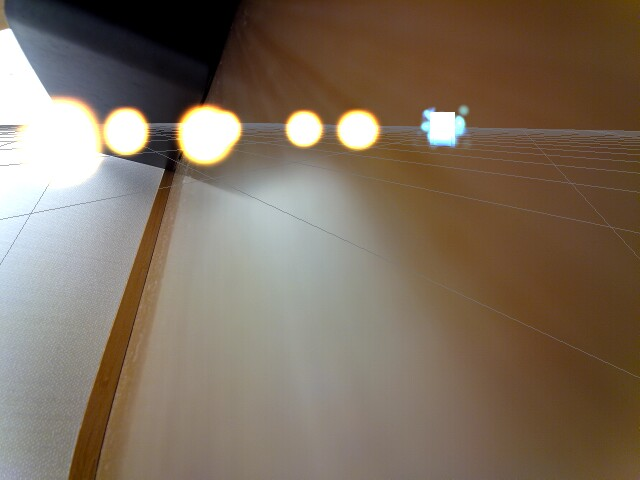firebig: (14, 90, 101, 189)
